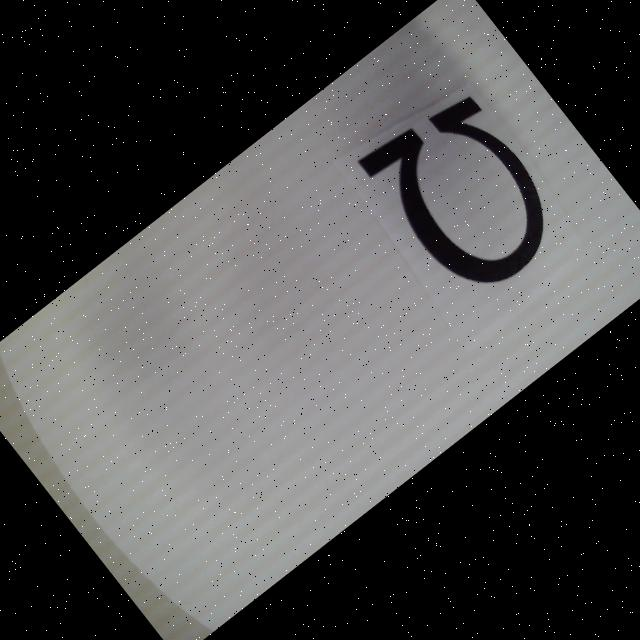OMEGA: (357, 81, 575, 308)
